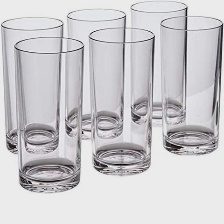glass: (0, 32, 89, 195), (78, 19, 160, 179), (155, 11, 224, 157), (55, 7, 128, 143), (0, 10, 64, 155), (120, 0, 188, 129)
